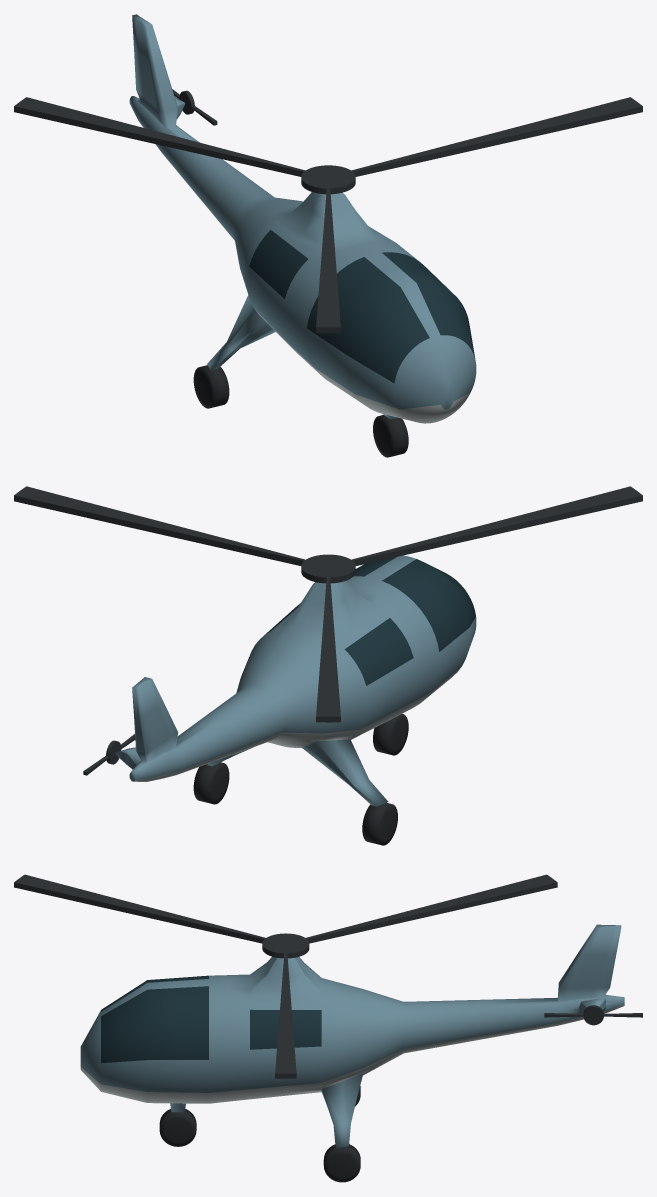
Rendered from A-NEW-20261027-HELICOPTER-001_LOD1_R1.glb.
3 renders of one model, top to bottom at view 1: azimuth 30°, elevation 25°; view 2: azimuth 150°, elevation 25°; view 3: azimuth 270°, elevation 25°, orthographic. The views are drawn at different scales.
Parts seen in each view (by area): view 1: original helicopter cabin tail boom mast and fixed gear, original static three blade main rotor, original helicopter fixed wheel 2, original helicopter fixed wheel 0; view 2: original helicopter cabin tail boom mast and fixed gear, original static three blade main rotor, original helicopter fixed wheel 2, original helicopter fixed wheel 1, original helicopter fixed wheel 0, generic unseen two blade tail rotor; view 3: original helicopter cabin tail boom mast and fixed gear, original static three blade main rotor, original helicopter fixed wheel 1, original helicopter fixed wheel 0, generic unseen two blade tail rotor.
Part boxes in pixels (x1,y1,x2,y2): original helicopter cabin tail boom mast and fixed gear: (129, 14, 476, 423); original static three blade main rotor: (14, 97, 642, 333); original helicopter fixed wheel 2: (193, 365, 229, 408); original helicopter fixed wheel 0: (373, 415, 408, 457); original helicopter cabin tail boom mast and fixed gear: (115, 555, 476, 806); original static three blade main rotor: (14, 486, 642, 722); original helicopter fixed wheel 2: (362, 803, 397, 845); original helicopter fixed wheel 1: (193, 762, 229, 804); original helicopter fixed wheel 0: (373, 714, 408, 755); generic unseen two blade tail rotor: (83, 734, 135, 775); original helicopter cabin tail boom mast and fixed gear: (80, 924, 624, 1147); original static three blade main rotor: (14, 874, 557, 1078); original helicopter fixed wheel 1: (323, 1144, 360, 1182); original helicopter fixed wheel 0: (159, 1109, 196, 1146); generic unseen two blade tail rotor: (544, 1005, 642, 1025).
Size of the model in its own units: 4.59 by 2.34 by 6.13.
